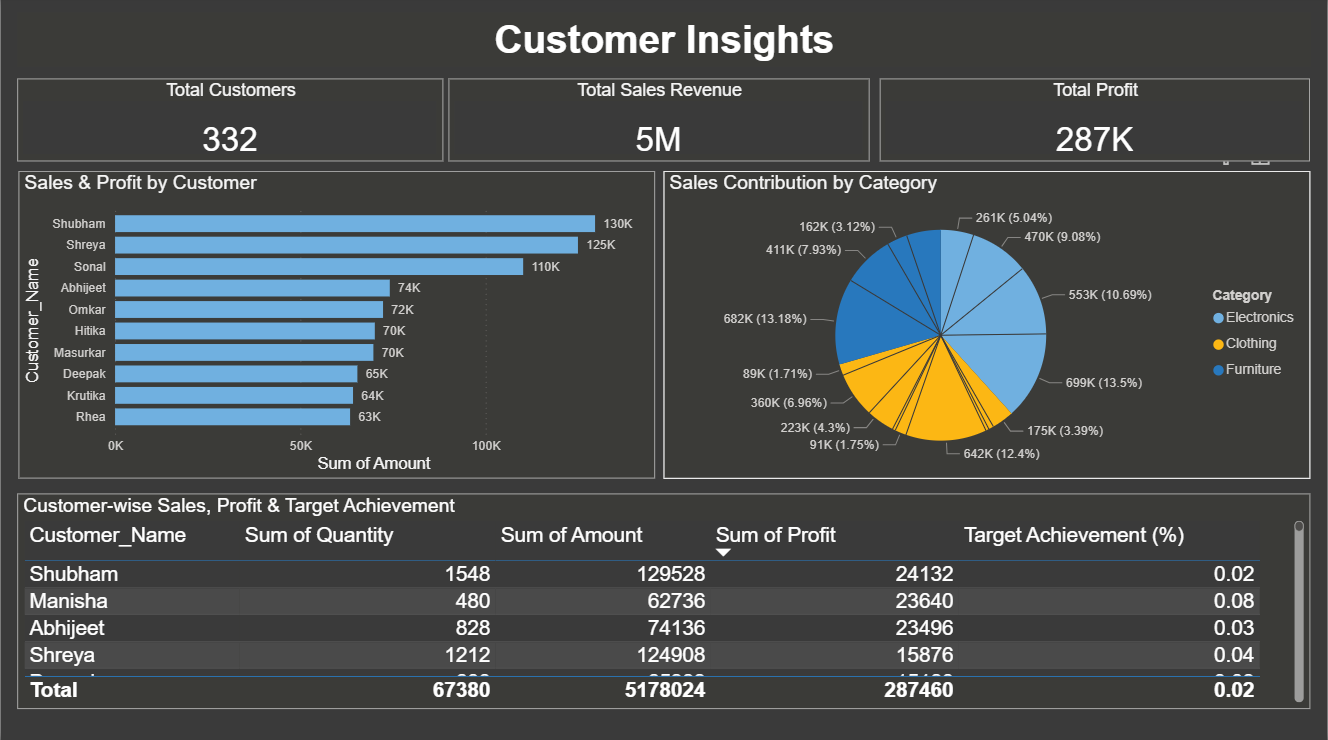

What the dashboard file says about the page in this screenshot:
{"tool":"powerbi","page":{"name":"Customer Insights","canvas":[1280,720],"ordinal":2},"visuals":[{"type":"clusteredBarChart","title":"Sales & Profit by Customer","fields":{"Category":["Query1.Customer_Name"],"Y":["Sum(Query1.Amount)"]},"box":[17,169,614,297],"z":0},{"type":"pieChart","title":"Sales Contribution by Category","fields":{"Y":["Sum(Query1.Amount)"],"Category":["Query1.Category"],"Series":["Query1.Sub_Category"]},"box":[640,169,624,297],"z":1000},{"type":"cardVisual","title":"Total Customers","fields":{"Data":["Count(Query1.Customer_Name)"]},"box":[16,80,411,80],"z":2000},{"type":"cardVisual","title":"Total Sales Revenue","fields":{"Data":["Sum(Query1.Amount)"]},"box":[432,80,406,80],"z":3000},{"type":"cardVisual","title":"Total Profit","fields":{"Data":["Sum(Query1.Profit)"]},"box":[848,80,415,80],"z":4000},{"type":"textbox","box":[16,16,1249,53],"z":5000},{"type":"tableEx","title":"Customer-wise Sales, Profit & Target Achievement","fields":{"Values":["Query1.Customer_Name","Sum(Query1.Quantity)","Sum(Query1.Amount)","Sum(Query1.Profit)","Query1.Target Achievement (%)"]},"box":[16,480,1248,208],"z":6000}]}

Visuals, with their boxes in screenshot pixels (x1, y1, x2, y2), scaled from the page's 1280x720 canvas onto the 1328x740 screenshot:
"Sales & Profit by Customer" clusteredBarChart: box=[18, 174, 655, 479]
"Sales Contribution by Category" pieChart: box=[664, 174, 1311, 479]
"Total Customers" cardVisual: box=[17, 82, 443, 164]
"Total Sales Revenue" cardVisual: box=[448, 82, 869, 164]
"Total Profit" cardVisual: box=[880, 82, 1310, 164]
textbox: box=[17, 16, 1312, 71]
"Customer-wise Sales, Profit & Target Achievement" tableEx: box=[17, 493, 1311, 707]
